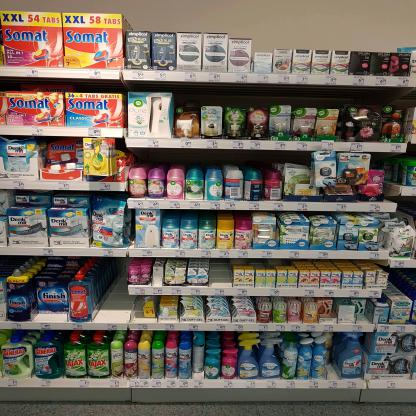Void: (184, 86, 407, 105), (138, 149, 274, 166), (101, 265, 133, 322), (213, 261, 229, 284), (376, 152, 395, 167)
